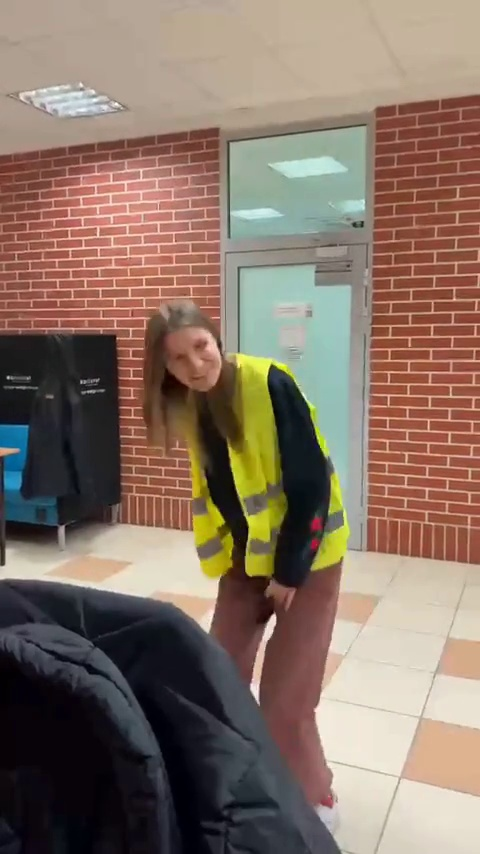vest: (133, 299, 350, 824)
